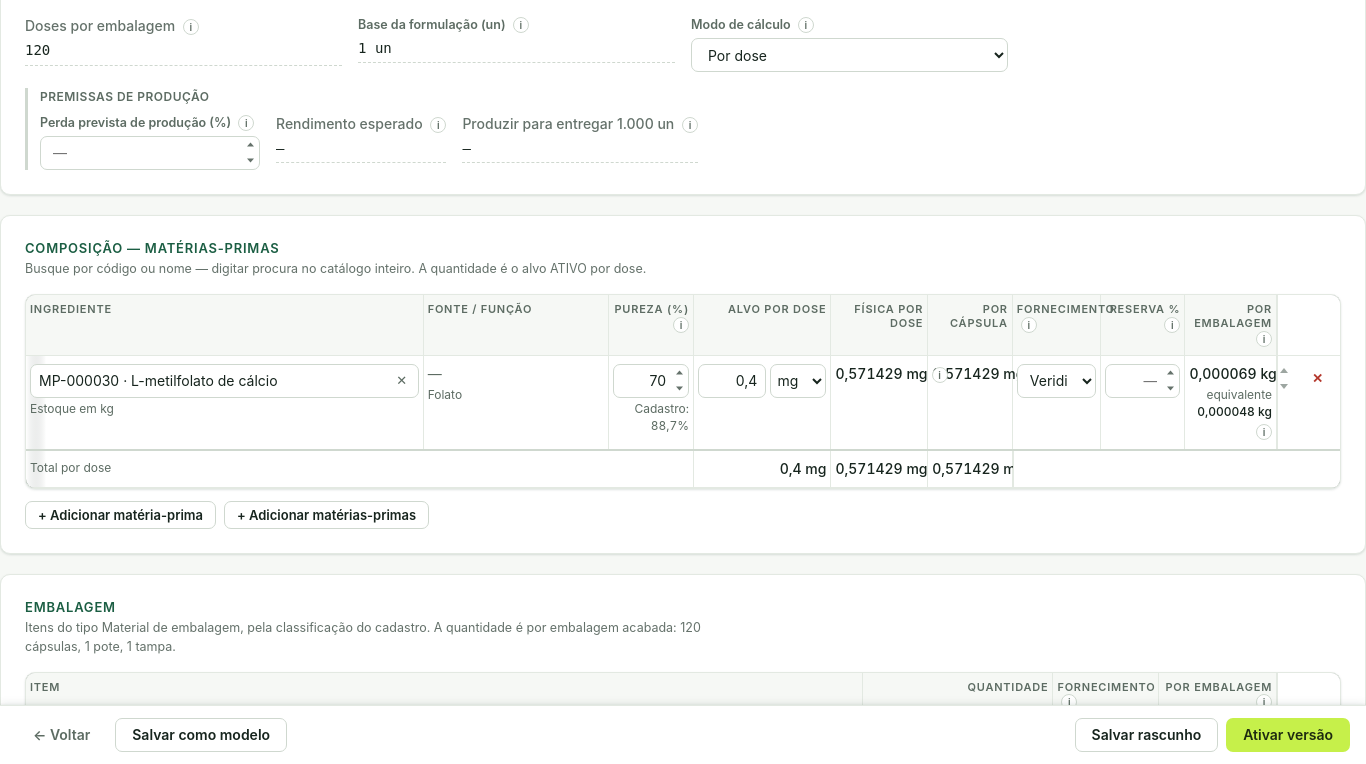
Scenario: Formulação — Consultar itens na bancada › selecionar devolve à linha um item de fora do catálogo do seletor — sem recarregar e sem perder o que não foi salvo
(page scrolled)
Step 1. Type "10" into the field named "Reserva % de MP-000030" → [1143, 380], box [1105,364,1180,398]
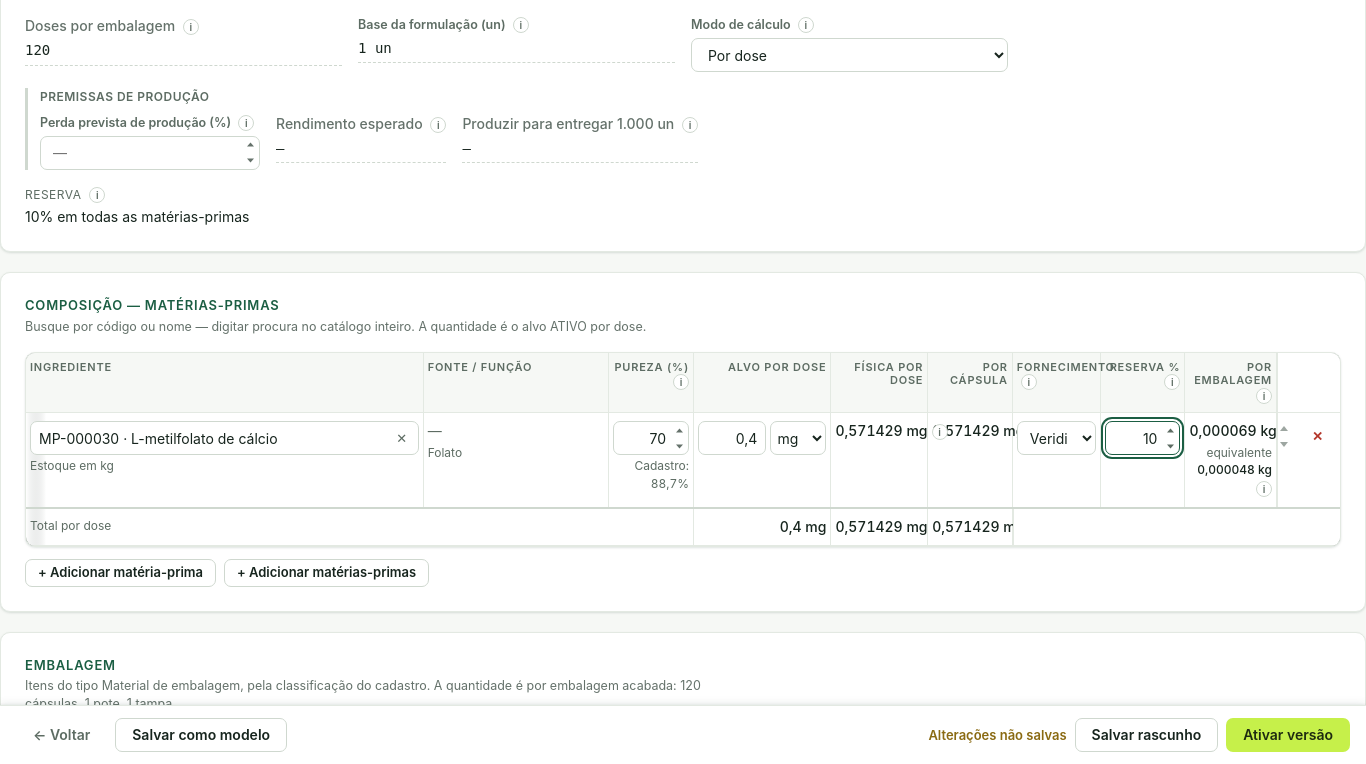
expect the text "Alterações não salvas" is shown: met, box [928,726,1067,744]
Step 2. Click the button "+ Adicionar matéria-prima" → [120, 573], box [25,559,216,587]
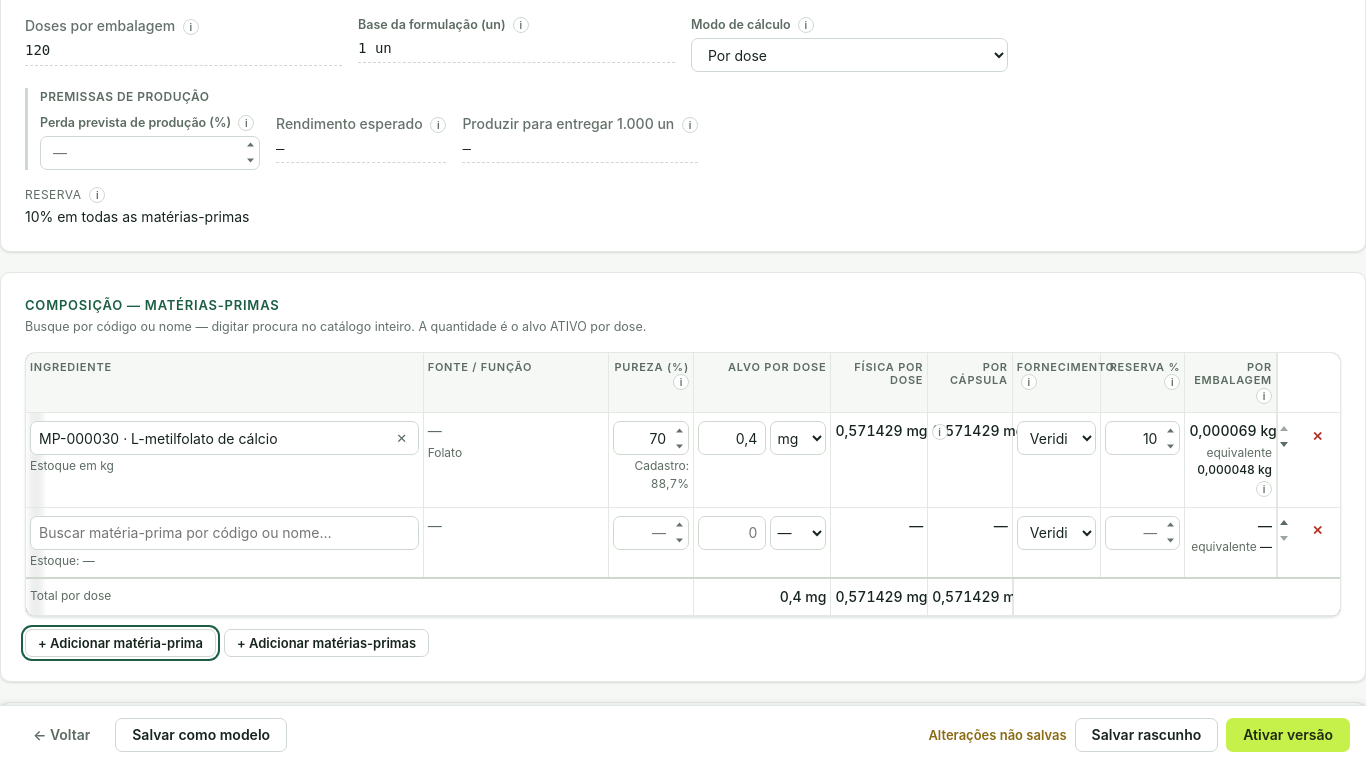
Step 3. Click the dropdown with placeholder "Buscar matéria-prima por código ou nome…" → [224, 533], box [30,516,419,550]
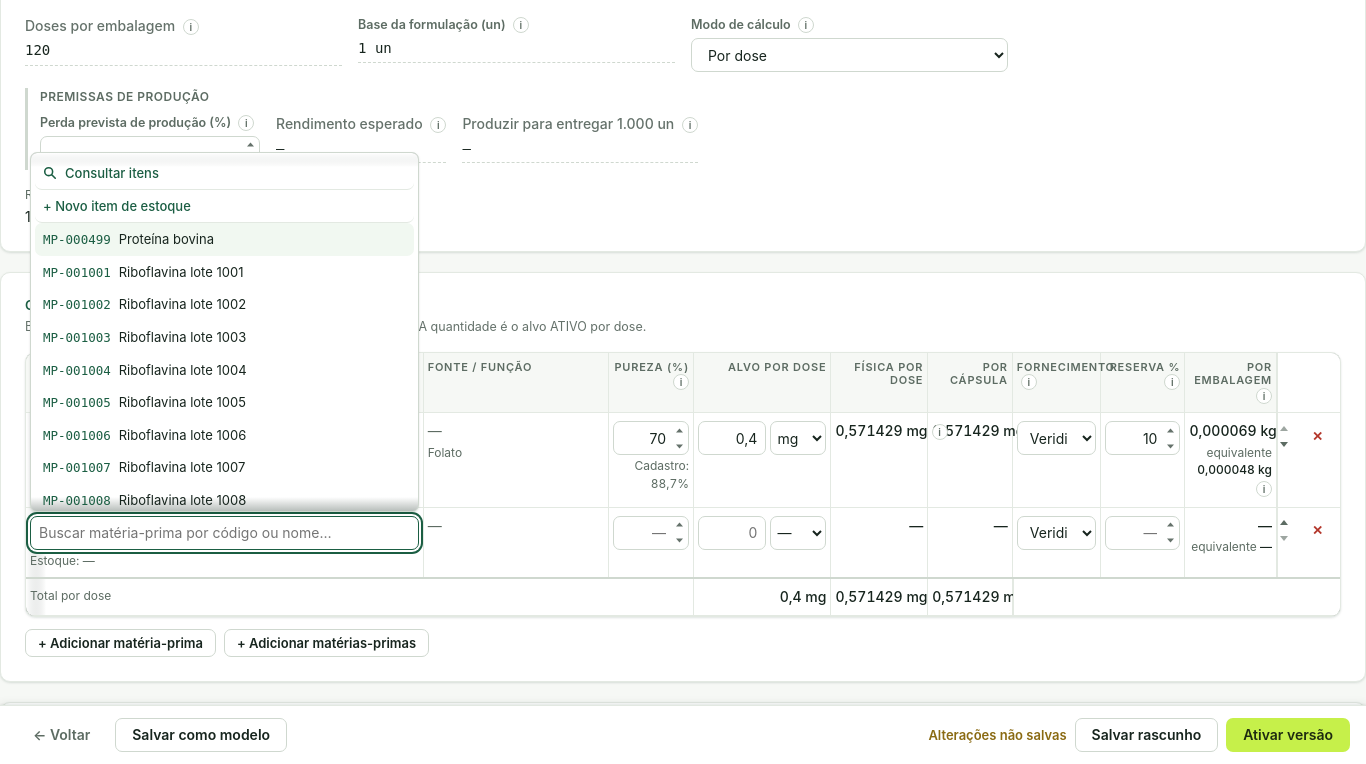
expect the list is shown: met, box [30,152,419,512]
Step 4. Click the option "Consultar itens" → [112, 173], box [35,157,414,190]
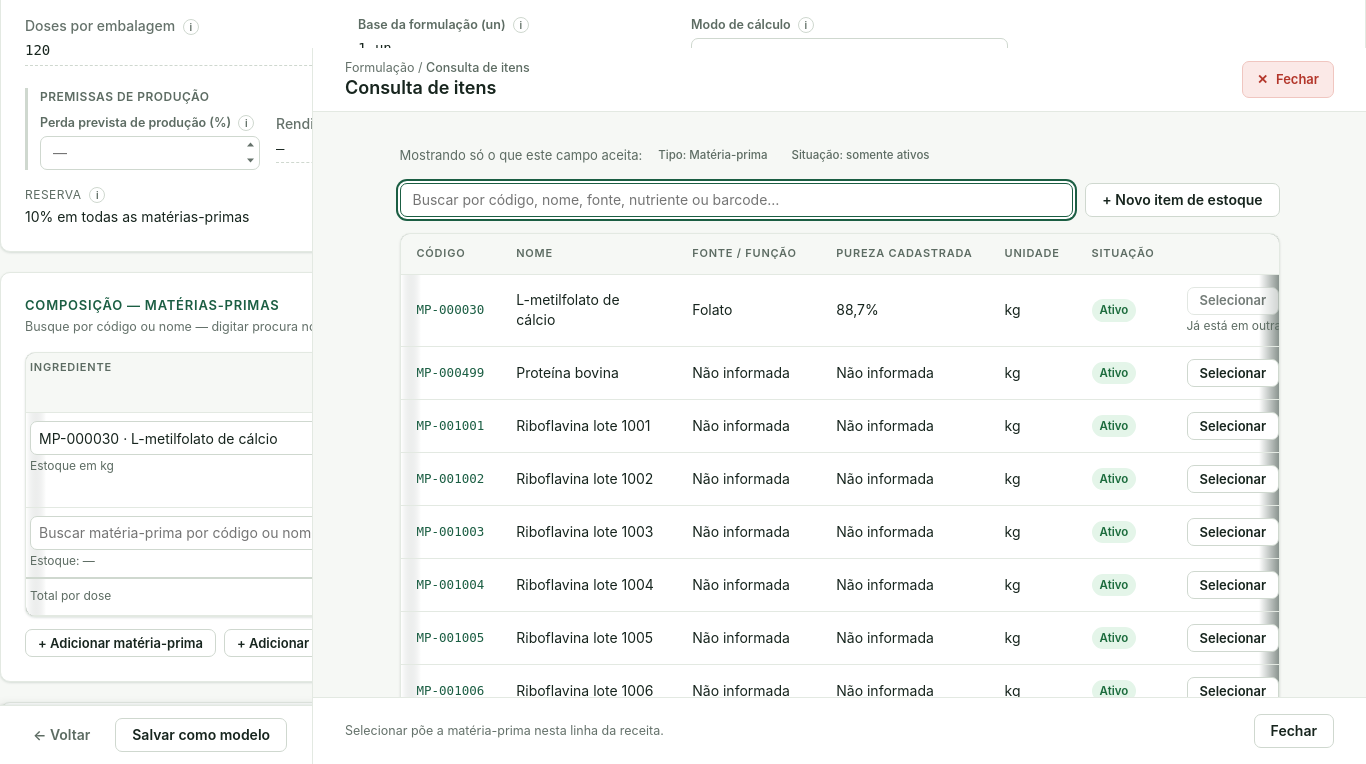
Step 5. Type "MP-00106" into the search field named "Buscar itens" → [736, 200], box [400,183,1073,217]
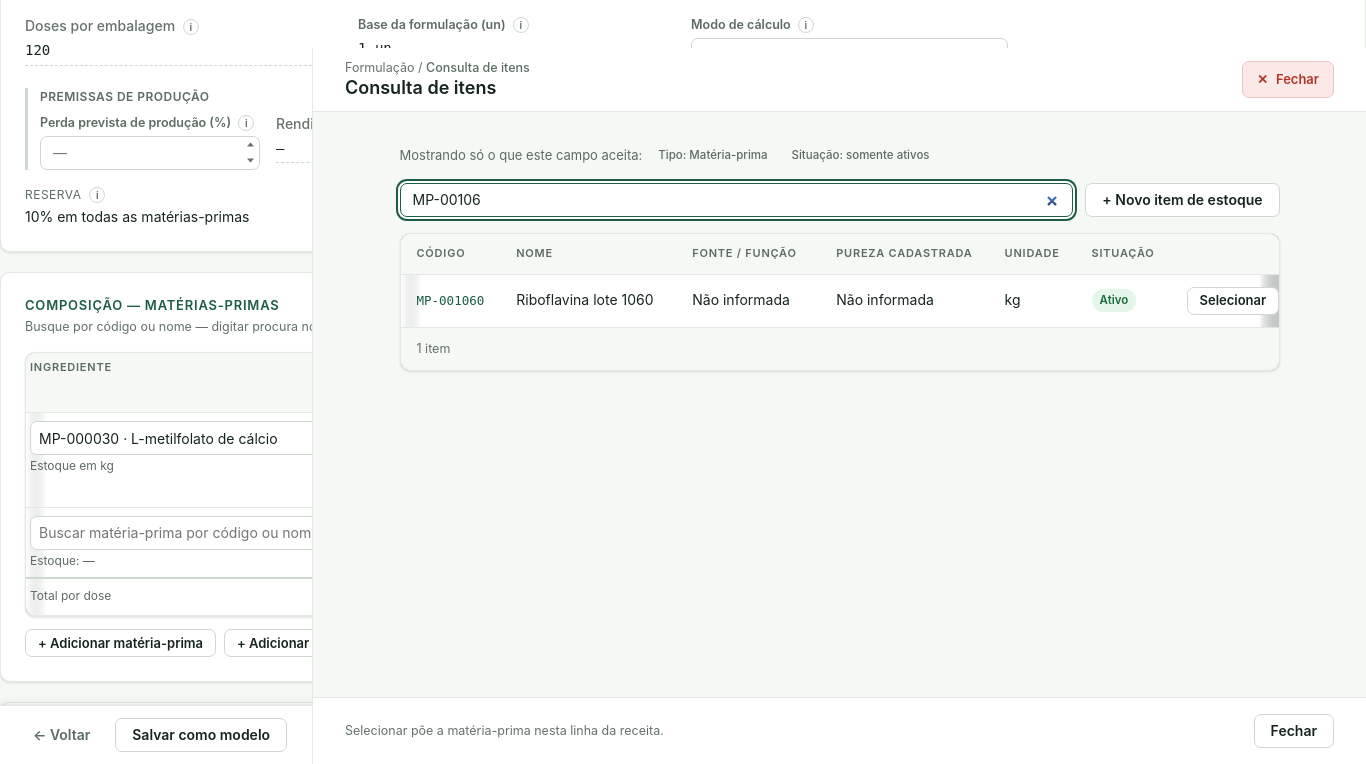
Step 6. Click the button with aria-label "Selecionar MP-001060" → [1233, 301], box [1186,287,1279,315]
(page scrolled)
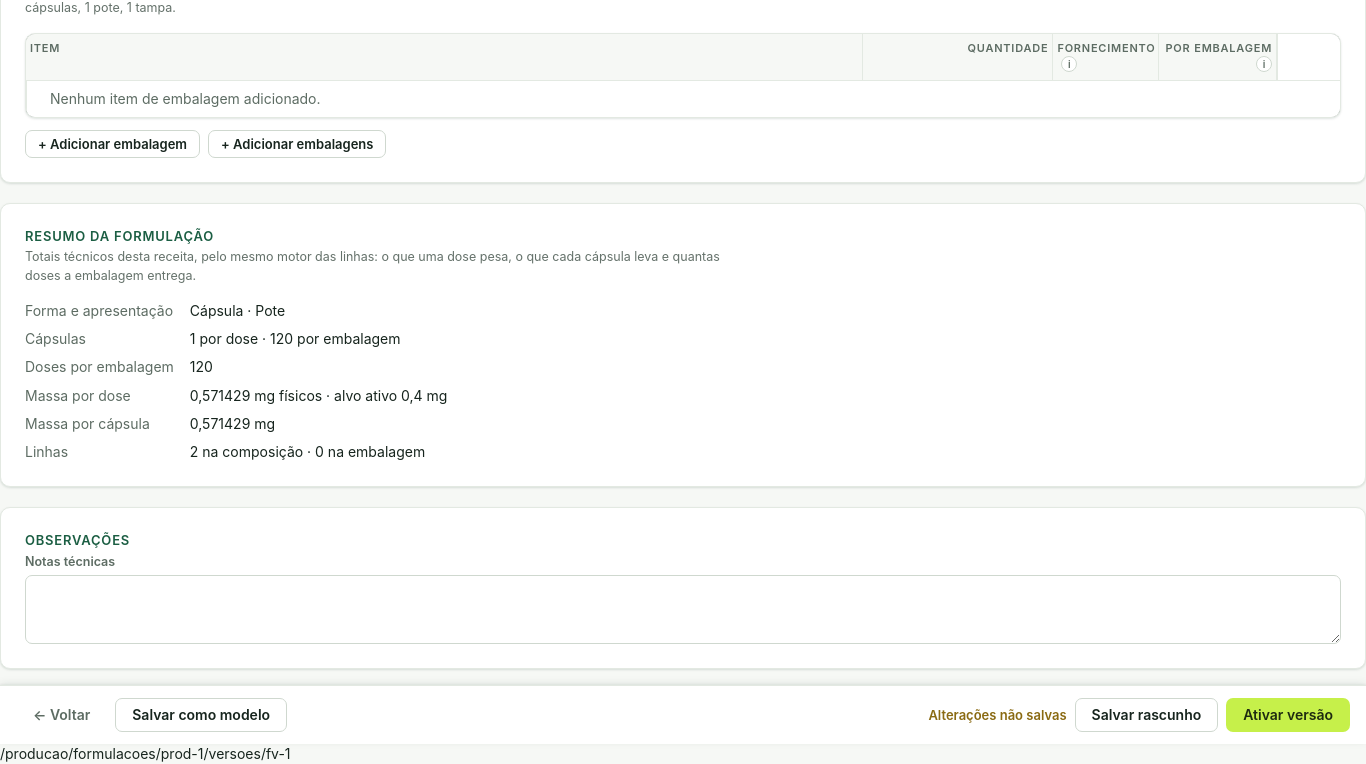
expect the text with test id "url" reads "/producao/formulacoes/prod-1/versoes/fv-1": met, box [0,745,291,762]
expect the text "Alterações não salvas" is shown: met, box [928,705,1067,724]
expect the text "Consulta de itens" is gone: met
